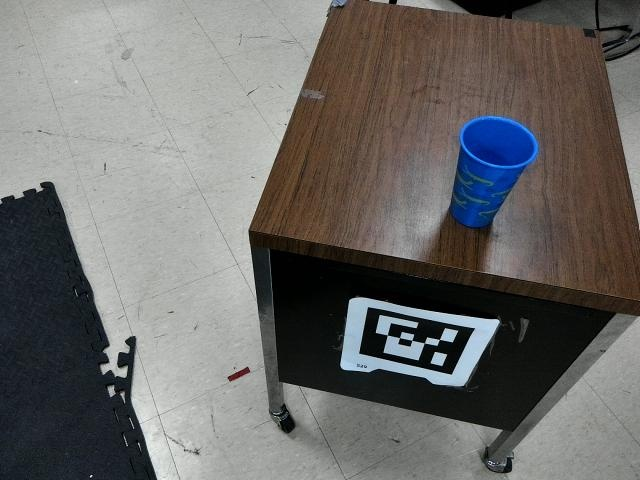water_cup: (441, 110, 543, 238)
